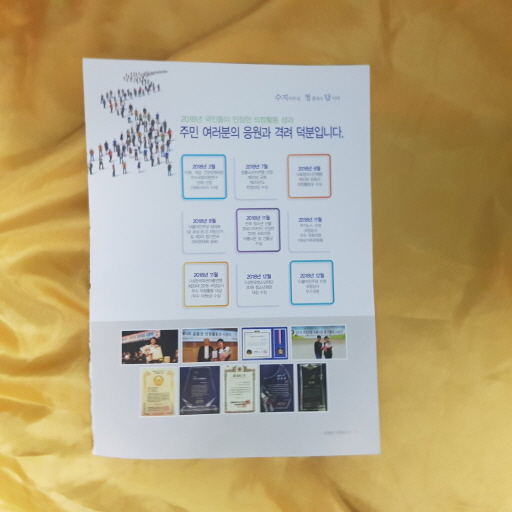Paper_2: (77, 38, 401, 475)
